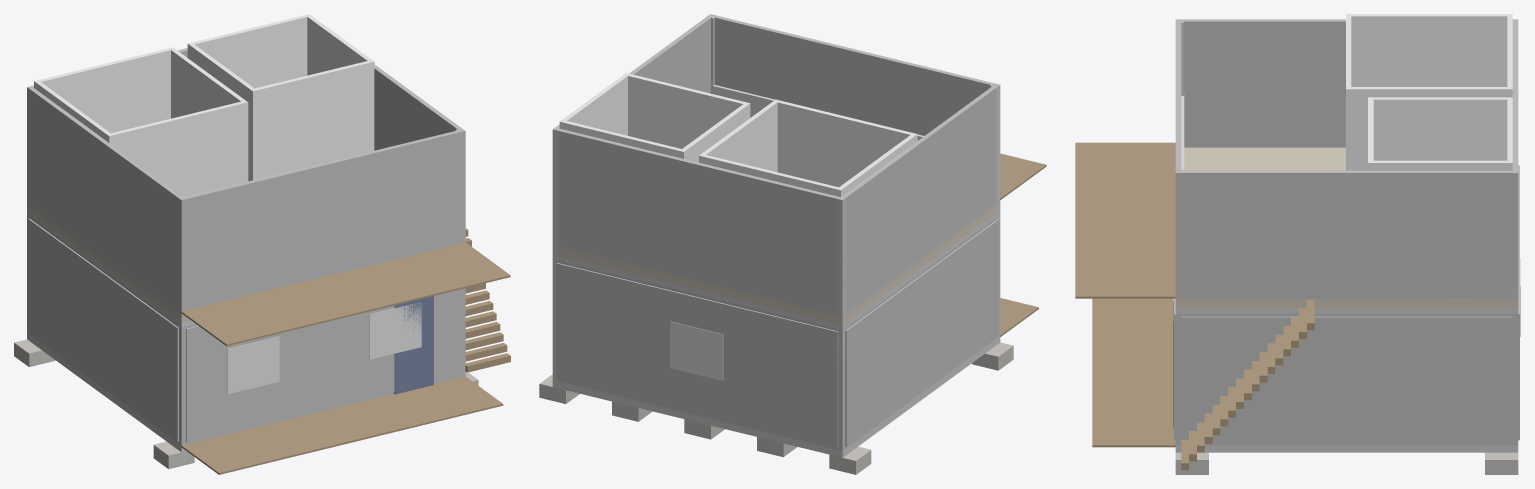
File: Duplex-20-Base-LightGrey-LOD1.glb
The picture shows the model from 3 angles, left to right: view 1: azimuth 30°, elevation 25°; view 2: azimuth 150°, elevation 25°; view 3: azimuth 270°, elevation 25°; orthographic projection. The views are drawn at different scales.
Parts seen in each view (by area): view 1: ExteriorShellUpper, ExteriorPanelsStandard, StudyUpper, BedroomUpper, BalconyUpper, BalconyGround, WindowsStandard, StaircaseExternal, EntryDoor, ExteriorShell, FoundationBlocks, BaseFrame (+3 smaller); view 2: ExteriorShellUpper, ExteriorPanelsStandard, BedroomUpper, StudyUpper, VerticalStructure, FloorUpper, FoundationBlocks, BaseFrame, ExteriorShell, WindowsStandard, TopFrame, BalconyUpper (+2 smaller); view 3: ExteriorShellUpper, ExteriorPanelsStandard, BalconyUpper, BedroomUpper, BalconyGround, StudyUpper, FloorUpper, StaircaseExternal, ExteriorShell, BaseFrame, TopFrame, FoundationBlocks (+1 smaller).
Boxes of the visible parts, left/top/right/bottom form: ExteriorShellUpper: left=27, top=48, right=465, bottom=317; ExteriorPanelsStandard: left=28, top=218, right=461, bottom=442; StudyUpper: left=187, top=14, right=374, bottom=181; BedroomUpper: left=34, top=47, right=248, bottom=196; BalconyUpper: left=181, top=242, right=510, bottom=346; BalconyGround: left=181, top=376, right=503, bottom=474; WindowsStandard: left=227, top=303, right=421, bottom=394; StaircaseExternal: left=465, top=228, right=510, bottom=372; EntryDoor: left=394, top=296, right=433, bottom=394; ExteriorShell: left=27, top=214, right=465, bottom=445; FoundationBlocks: left=14, top=339, right=478, bottom=469; BaseFrame: left=27, top=333, right=186, bottom=452; ExteriorShellUpper: left=553, top=14, right=999, bottom=320; ExteriorPanelsStandard: left=556, top=219, right=999, bottom=447; BedroomUpper: left=699, top=99, right=917, bottom=197; StudyUpper: left=559, top=73, right=750, bottom=162; VerticalStructure: left=552, top=17, right=1000, bottom=449; FloorUpper: left=553, top=204, right=996, bottom=325; FoundationBlocks: left=539, top=342, right=1013, bottom=474; BaseFrame: left=552, top=336, right=1000, bottom=457; ExteriorShell: left=553, top=218, right=996, bottom=450; WindowsStandard: left=670, top=321, right=723, bottom=380; TopFrame: left=559, top=213, right=996, bottom=329; BalconyUpper: left=1000, top=153, right=1046, bottom=199; ExteriorShellUpper: left=1175, top=19, right=1518, bottom=303; ExteriorPanelsStandard: left=1174, top=165, right=1519, bottom=443; BalconyUpper: left=1075, top=142, right=1175, bottom=298; BedroomUpper: left=1346, top=14, right=1512, bottom=170; BalconyGround: left=1092, top=298, right=1175, bottom=447; StudyUpper: left=1368, top=97, right=1512, bottom=170; FloorUpper: left=1175, top=147, right=1518, bottom=308; StaircaseExternal: left=1181, top=299, right=1314, bottom=470; ExteriorShell: left=1175, top=314, right=1518, bottom=445; BaseFrame: left=1175, top=445, right=1518, bottom=452; TopFrame: left=1175, top=309, right=1518, bottom=313; FoundationBlocks: left=1175, top=452, right=1518, bottom=474.
Bounding box in the file's own units: 7.94 × 6 × 8.
